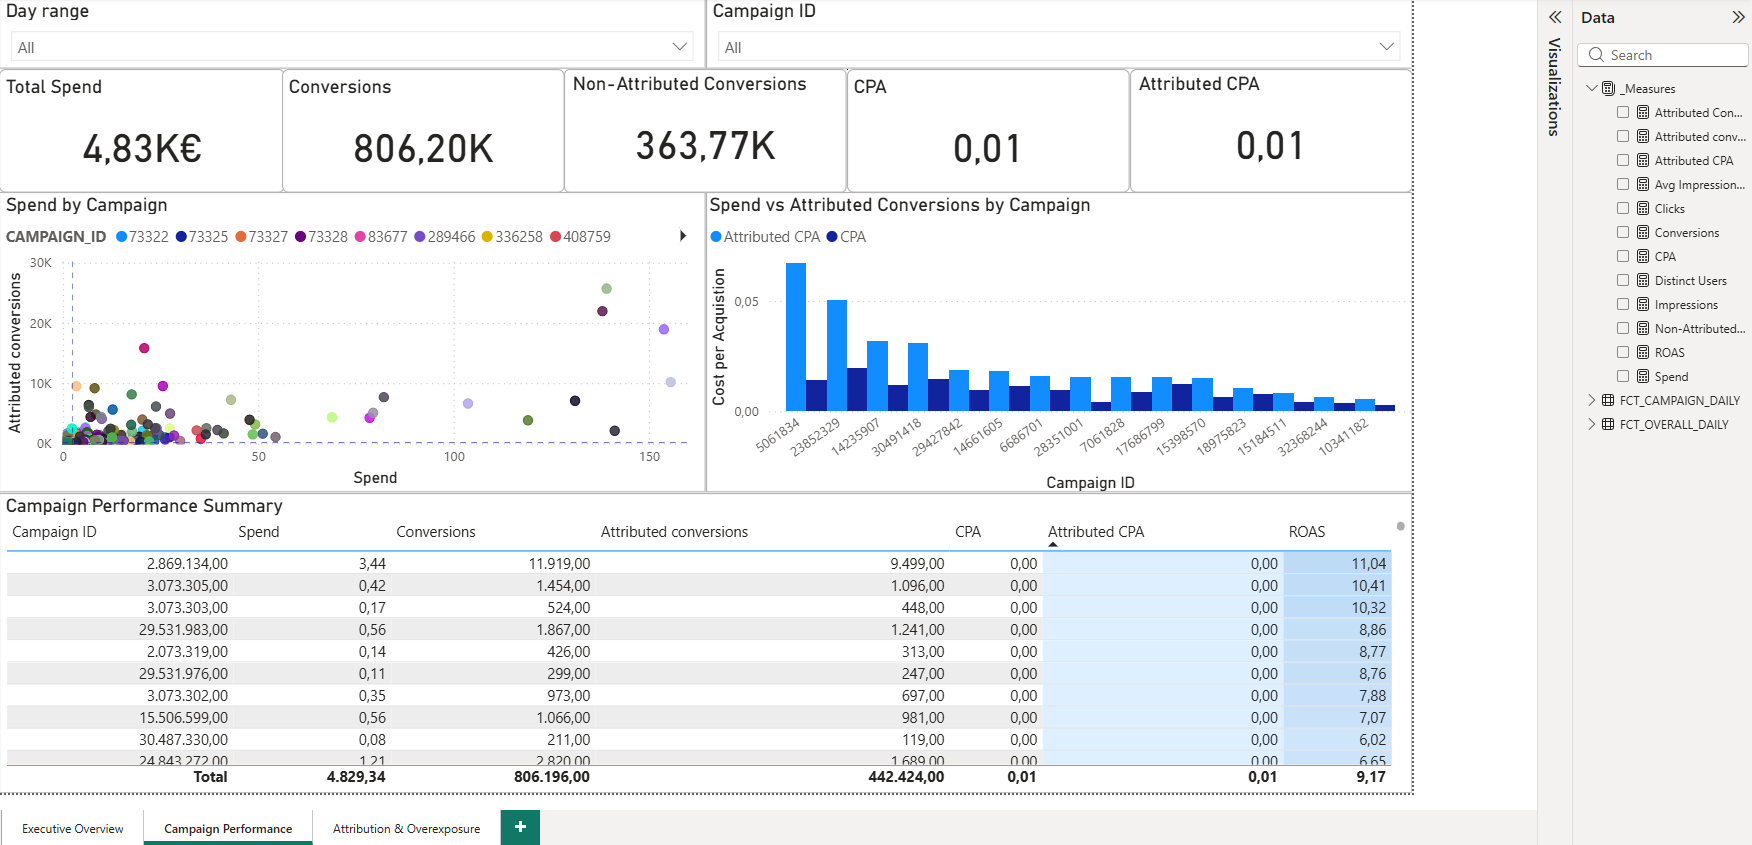

The dashboard page shown, as its layout file describes it:
{"tool":"powerbi","page":{"name":"Campaign Performance","canvas":[1280,720],"ordinal":1},"visuals":[{"type":"card","title":"CPA","fields":{"Values":["_Measures.CPA"]},"box":[768,64,256,112],"z":0},{"type":"card","title":"Attributed CPA","fields":{"Values":["_Measures.Attributed CPA"]},"box":[1024,64,256,112],"z":1000},{"type":"scatterChart","title":"Spend by Campaign","fields":{"Series":["FCT_CAMPAIGN_DAILY.CAMPAIGN_ID"],"X":["_Measures.Spend"],"Y":["_Measures.Attributed_conversions"]},"box":[0,176,640,272],"z":2000},{"type":"clusteredColumnChart","title":"Spend vs Attributed Conversions by Campaign","fields":{"Category":["FCT_CAMPAIGN_DAILY.CAMPAIGN_ID"],"Y":["_Measures.Attributed CPA","_Measures.CPA"]},"box":[640,176,640,272],"z":3000},{"type":"tableEx","title":"Campaign Performance Summary","fields":{"Values":["FCT_CAMPAIGN_DAILY.CAMPAIGN_ID","_Measures.Spend","_Measures.Conversions","_Measures.Attributed conversions","_Measures.CPA","_Measures.Attributed CPA","_Measures.ROAS"]},"box":[0,448,1280,272],"z":4000},{"type":"slicer","title":"Day range","fields":{"Values":["FCT_CAMPAIGN_DAILY.EVENT_DAY_BUCKET"]},"box":[0,0,640,64],"z":5000},{"type":"slicer","title":"Campaign ID","fields":{"Values":["FCT_CAMPAIGN_DAILY.CAMPAIGN_ID"]},"box":[640,0,640,64],"z":6000},{"type":"card","title":"Total Spend","fields":{"Values":["_Measures.Spend"]},"box":[0,64,259,112],"z":7000},{"type":"card","title":"Conversions","fields":{"Values":["_Measures.Conversions"]},"box":[256,64,256,112],"z":8000},{"type":"card","title":"Non-Attributed Conversions","fields":{"Values":["_Measures.Non-Attributed Conversions"]},"box":[512,64,256,112],"z":9000}]}

Visuals, with their boxes on the page's 1280x720 design canvas (x1, y1, x2, y2). These are canvas units, not pixel positions in the 1752x845 screenshot, which may show the page scaled, cropped or inside an application window:
"CPA" card: (x1=768, y1=64, x2=1024, y2=176)
"Attributed CPA" card: (x1=1024, y1=64, x2=1280, y2=176)
"Spend by Campaign" scatterChart: (x1=0, y1=176, x2=640, y2=448)
"Spend vs Attributed Conversions by Campaign" clusteredColumnChart: (x1=640, y1=176, x2=1280, y2=448)
"Campaign Performance Summary" tableEx: (x1=0, y1=448, x2=1280, y2=720)
"Day range" slicer: (x1=0, y1=0, x2=640, y2=64)
"Campaign ID" slicer: (x1=640, y1=0, x2=1280, y2=64)
"Total Spend" card: (x1=0, y1=64, x2=259, y2=176)
"Conversions" card: (x1=256, y1=64, x2=512, y2=176)
"Non-Attributed Conversions" card: (x1=512, y1=64, x2=768, y2=176)
